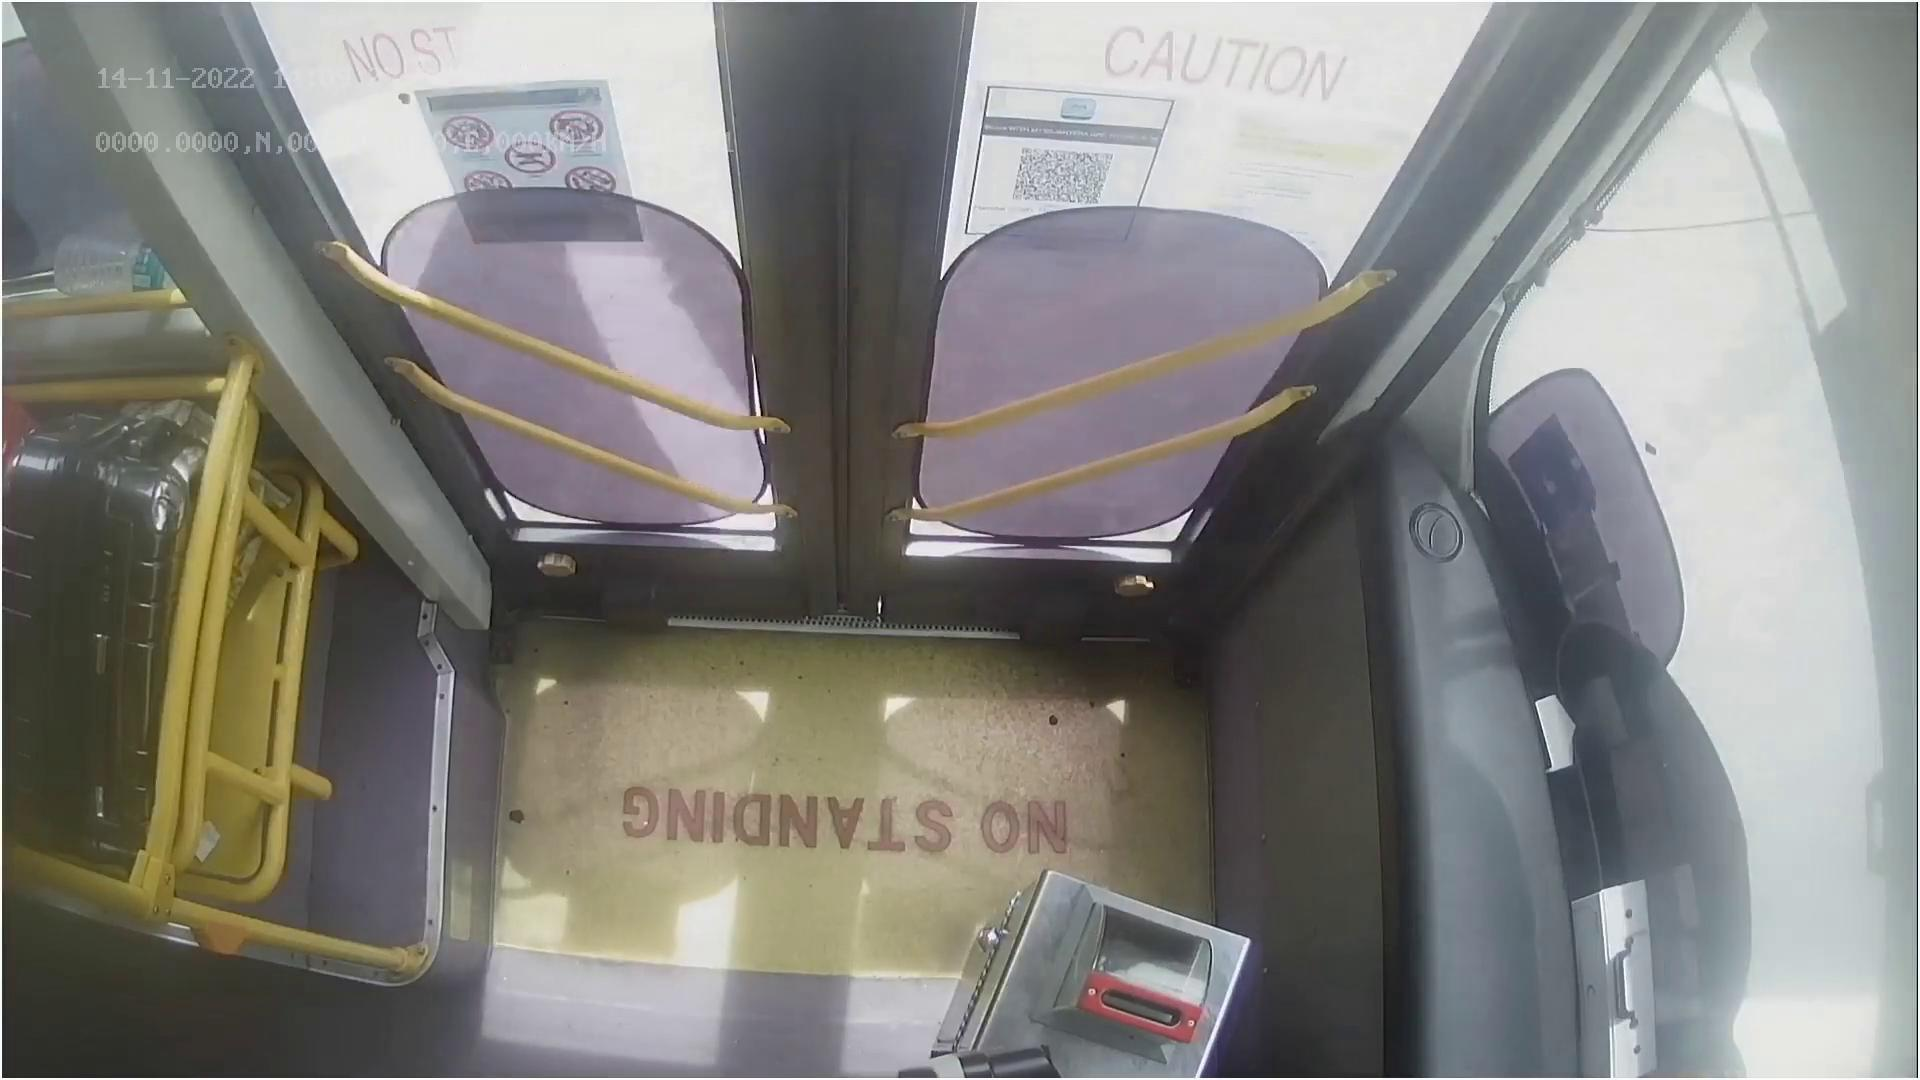close: (286, 0, 1441, 164)
